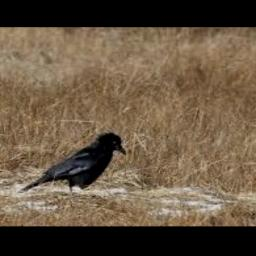Crow: (20, 131, 126, 194)
